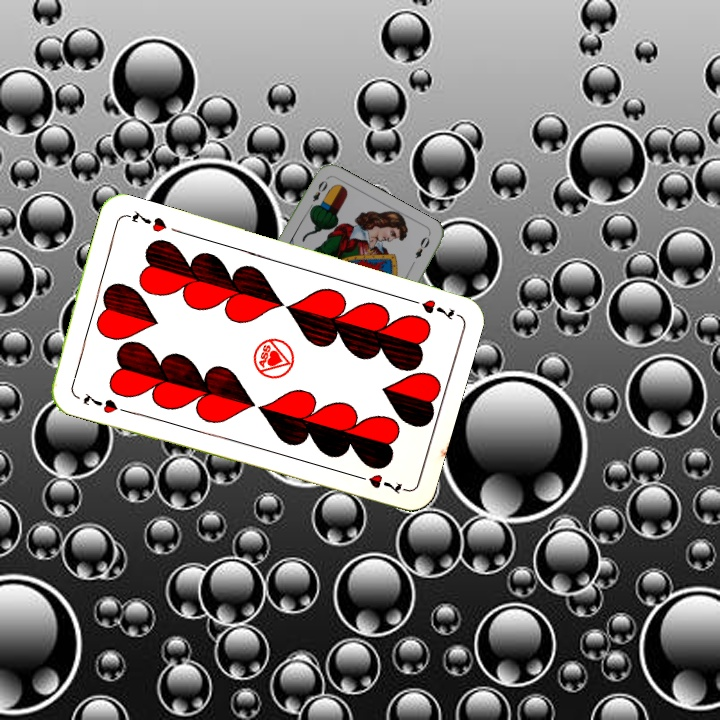EO: (304, 176, 330, 213)
H7: (402, 293, 458, 323), (79, 388, 129, 416)
